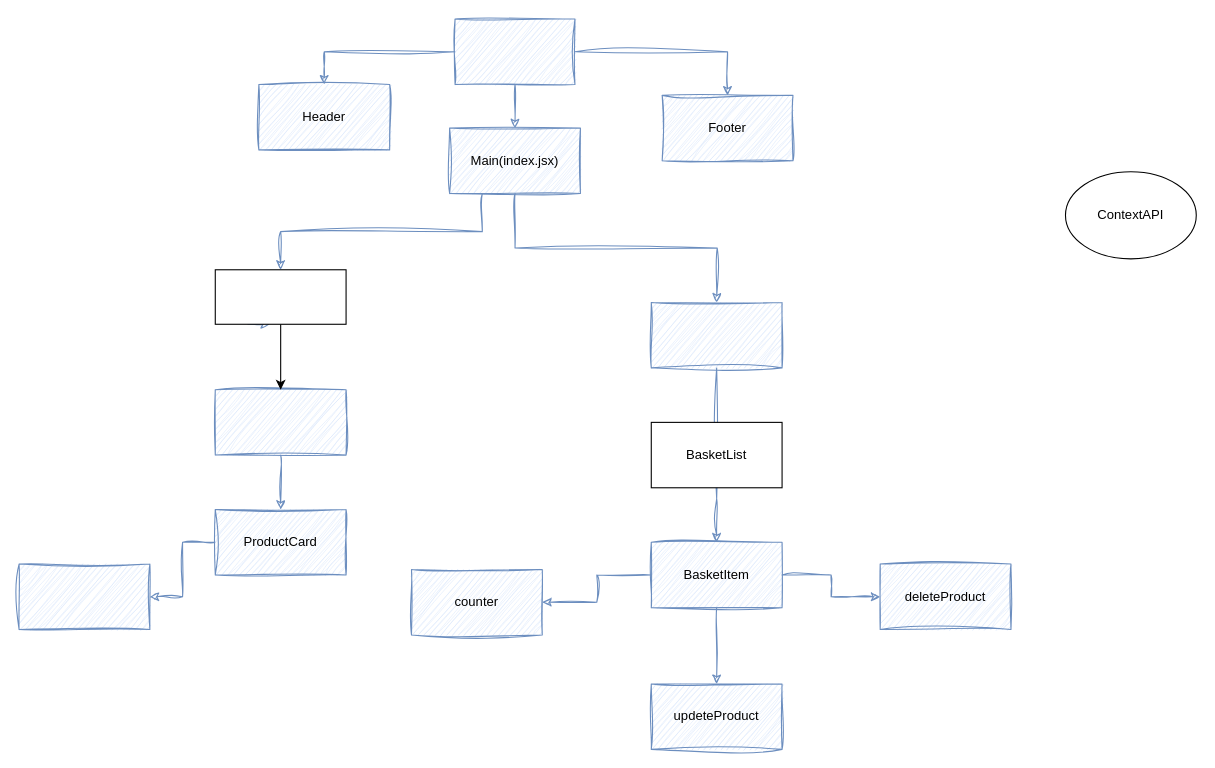
The diagram is 1215 pixels wide and 768 high, and some of its shapes have lost their labels. Each missing label, with the centre of its shape:
"APP" belongs at point (514, 51).
"Basket(index.jsx)" belongs at point (716, 334).
"ButtonAddProduct" belongs at point (84, 596).
"Catalog(index.jsx)" belongs at point (280, 296).
"ProductList" belongs at point (280, 422).
